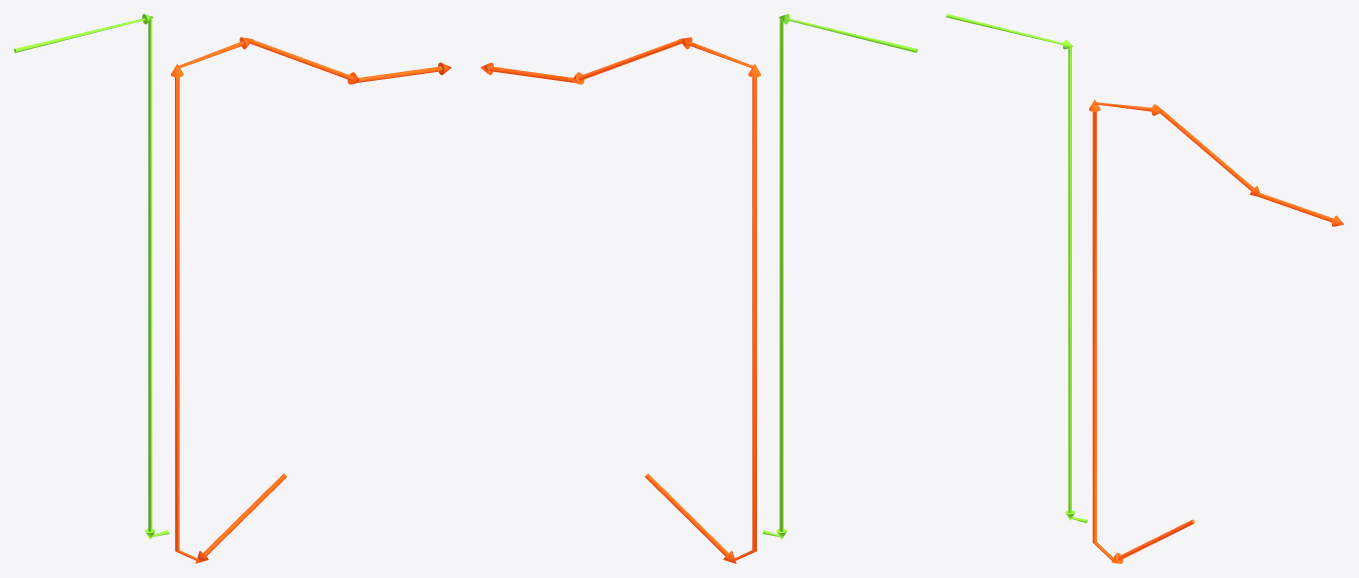
Rendered from airlift_pump_flow.glb.
3 renders of one model, left to right at view 1: azimuth 30°, elevation 25°; view 2: azimuth 150°, elevation 25°; view 3: azimuth 330°, elevation 25°, orthographic. The views are drawn at different scales.
Parts seen in each view (by area): view 1: flow_water, flow_air; view 2: flow_water, flow_air; view 3: flow_water, flow_air.
Boxes of the visible parts, x1,y1,x2,y2 form: flow_water: (171, 37, 451, 563); flow_air: (14, 14, 169, 539); flow_water: (480, 37, 760, 563); flow_air: (762, 14, 917, 539); flow_water: (1089, 99, 1343, 563); flow_air: (946, 14, 1087, 523).
Bounding box in the file's own units: 2.42 × 2.98 × 0.0624.
